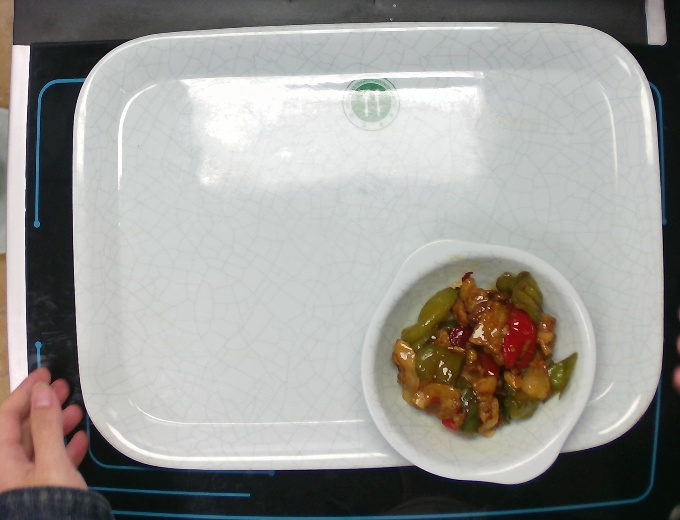JYsf-Shuang_Er_Wan: (358, 236, 599, 488)
